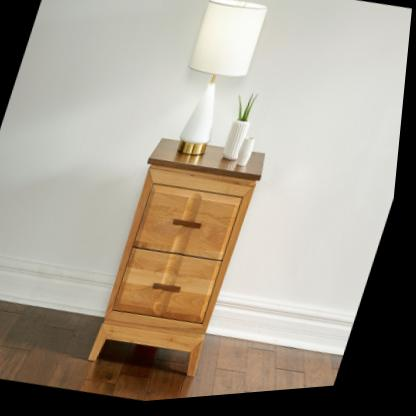Lamp: (160, 0, 276, 171)
Nightstand: (80, 127, 277, 396)
